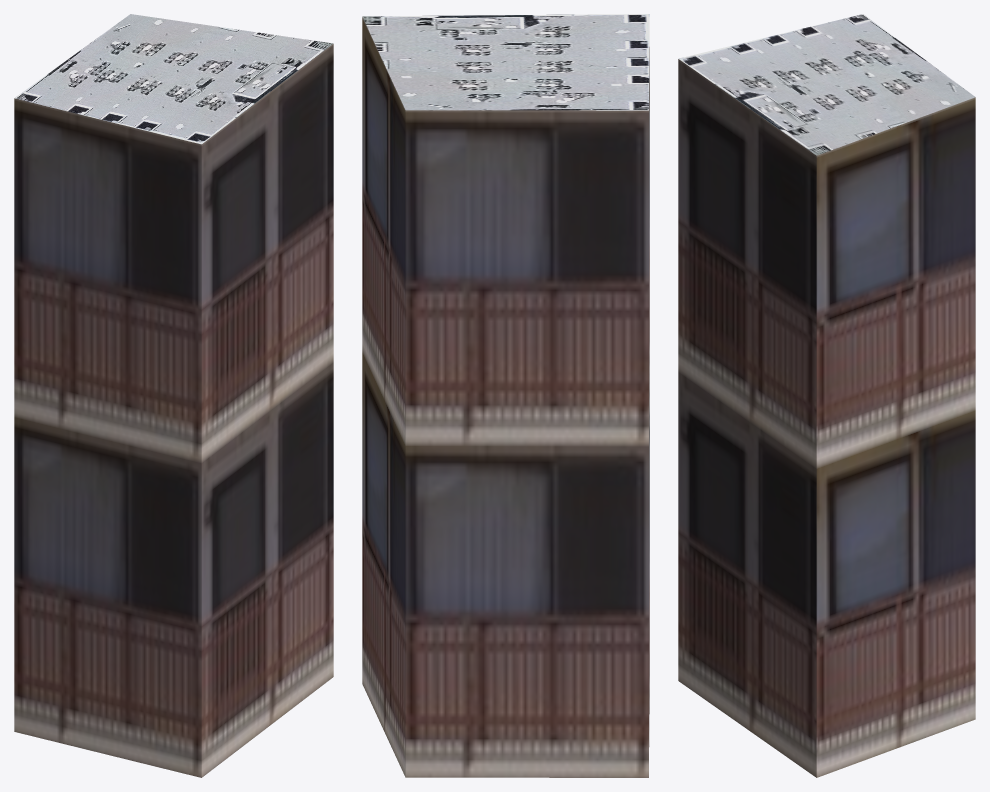
Rendered from ResTex__1538.fbx.
3 views of the same model, side by side, from view 1: azimuth 30°, elevation 25°; view 2: azimuth 150°, elevation 25°; view 3: azimuth 270°, elevation 25° (orthographic). The views are drawn at different scales.
Visible parts, largest first — view 1: CityEngineMaterial_6_m, CityEngineMaterial_8_m; view 2: CityEngineMaterial_6_m, CityEngineMaterial_8_m; view 3: CityEngineMaterial_6_m, CityEngineMaterial_8_m.
Part boxes in pixels (x1,y1,x2,y2): CityEngineMaterial_6_m: [14, 44, 333, 777]; CityEngineMaterial_8_m: [15, 14, 333, 144]; CityEngineMaterial_6_m: [362, 17, 649, 777]; CityEngineMaterial_8_m: [362, 14, 649, 110]; CityEngineMaterial_6_m: [678, 59, 975, 777]; CityEngineMaterial_8_m: [678, 14, 975, 155].
Bounding box in the file's own units: 2.93 × 6 × 2.6.
Materials: 2 (2 with a texture image).
